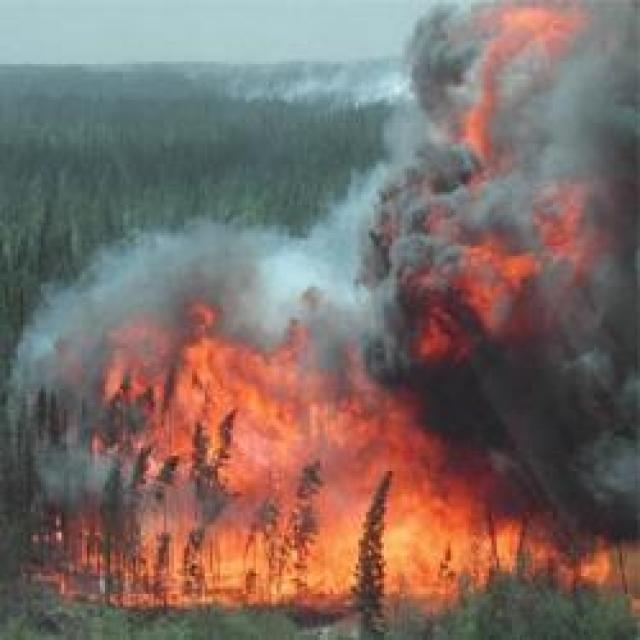fire: (260, 470, 488, 602), (127, 332, 318, 452)
smoke: (357, 7, 640, 398), (80, 208, 358, 326), (4, 287, 102, 498), (496, 404, 640, 539)
